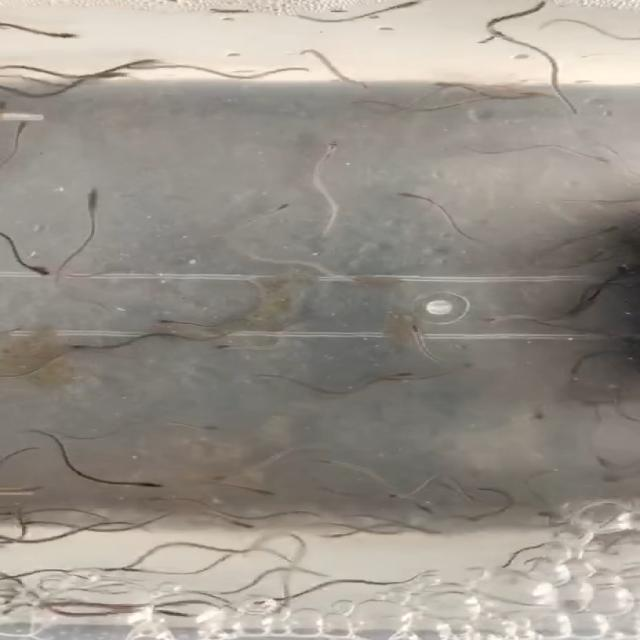active_glass_eel: (473, 28, 514, 50), (368, 0, 424, 15), (79, 182, 105, 210), (433, 78, 476, 93), (32, 30, 84, 42), (309, 454, 348, 470), (262, 200, 298, 217), (11, 482, 49, 498), (509, 0, 550, 14), (18, 262, 54, 277), (477, 312, 526, 323), (146, 315, 184, 329), (402, 322, 433, 339), (528, 402, 553, 423), (589, 404, 616, 423), (64, 339, 98, 354), (392, 188, 428, 202), (43, 79, 81, 92), (254, 594, 292, 607), (7, 119, 37, 135), (227, 516, 261, 530), (386, 367, 428, 378), (510, 88, 556, 98), (213, 471, 248, 484), (125, 478, 165, 489), (591, 153, 620, 168), (322, 139, 346, 157), (450, 360, 486, 372), (191, 422, 226, 434), (317, 532, 358, 542), (88, 70, 139, 78), (343, 77, 372, 91), (599, 475, 635, 486), (208, 342, 247, 352), (411, 504, 440, 517), (597, 221, 628, 233), (111, 563, 144, 574), (384, 491, 421, 500), (15, 517, 48, 527), (562, 304, 582, 320), (248, 487, 278, 497), (460, 524, 461, 526)
